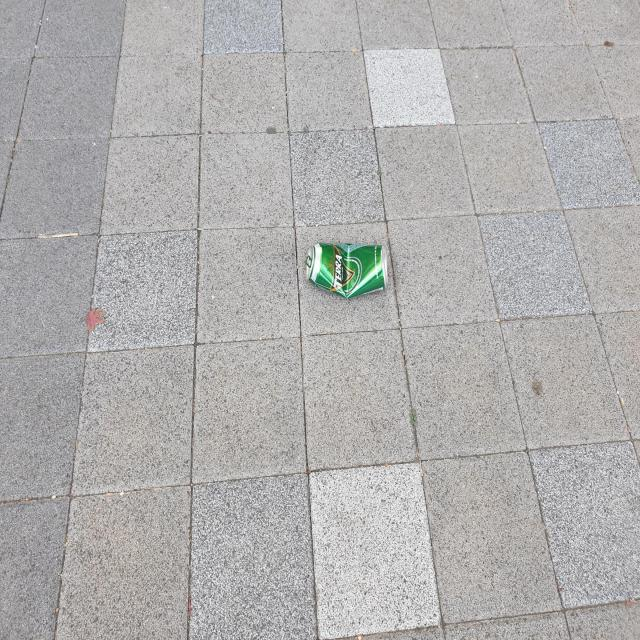can: (306, 243, 388, 298)
